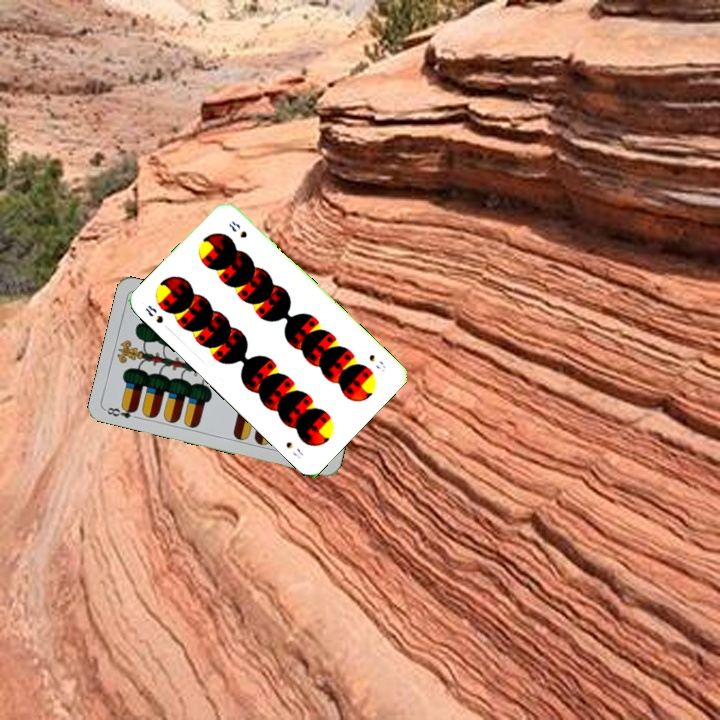E8: (102, 402, 140, 421)
S8: (141, 301, 166, 326), (365, 350, 388, 374)
